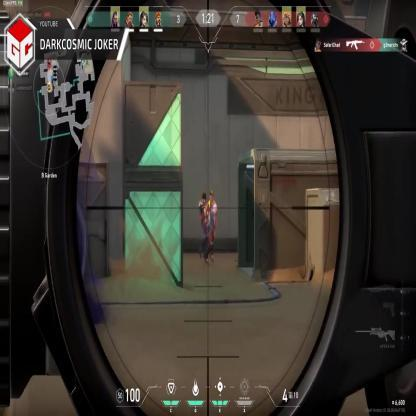enemy: (205, 191, 216, 266)
enemy_head: (208, 190, 214, 202)
